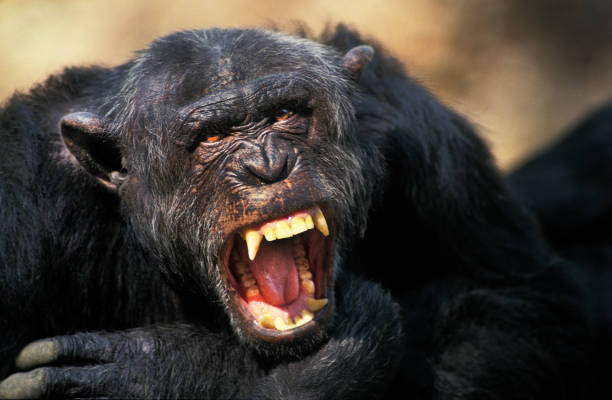chimpanzee: (26, 6, 425, 375)
